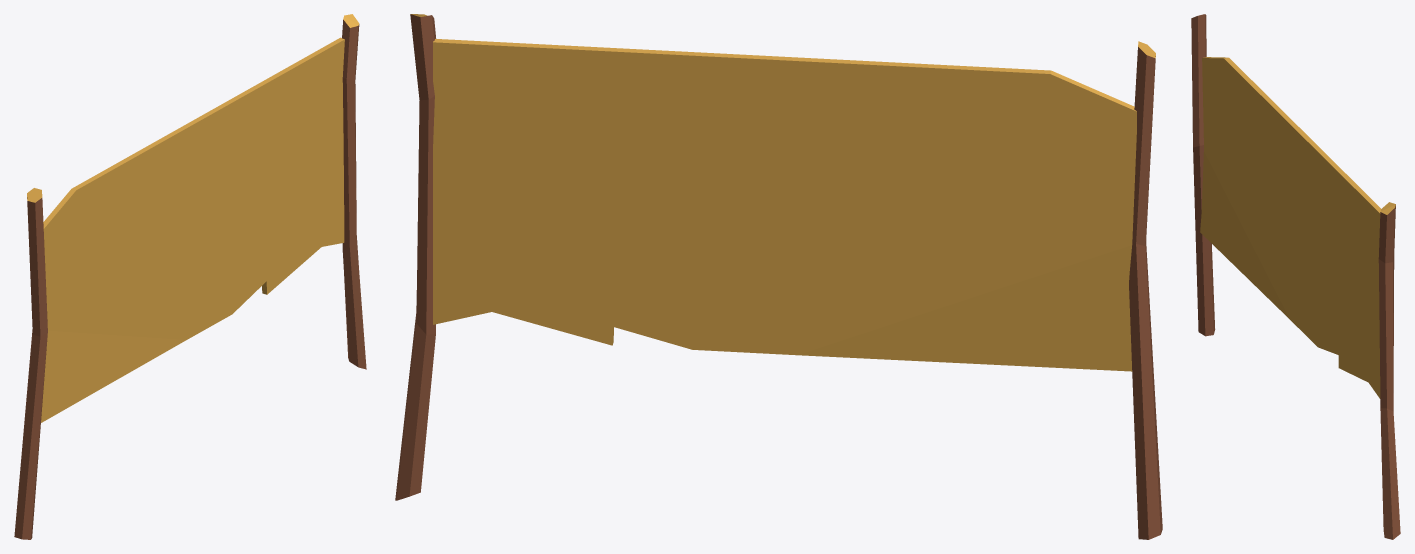
The model's file is table.fbx.
3 views of the same model, side by side, from view 1: azimuth 30°, elevation 25°; view 2: azimuth 150°, elevation 25°; view 3: azimuth 270°, elevation 25° (orthographic). The views are drawn at different scales.
Visible parts, largest first — view 1: table; view 2: table; view 3: table.
Part boxes in pixels (x1,y1,x2,y2): table: (14, 14, 366, 539); table: (395, 14, 1162, 539); table: (1191, 14, 1400, 539).
Size of the model in its own units: 684 by 519 by 298.
